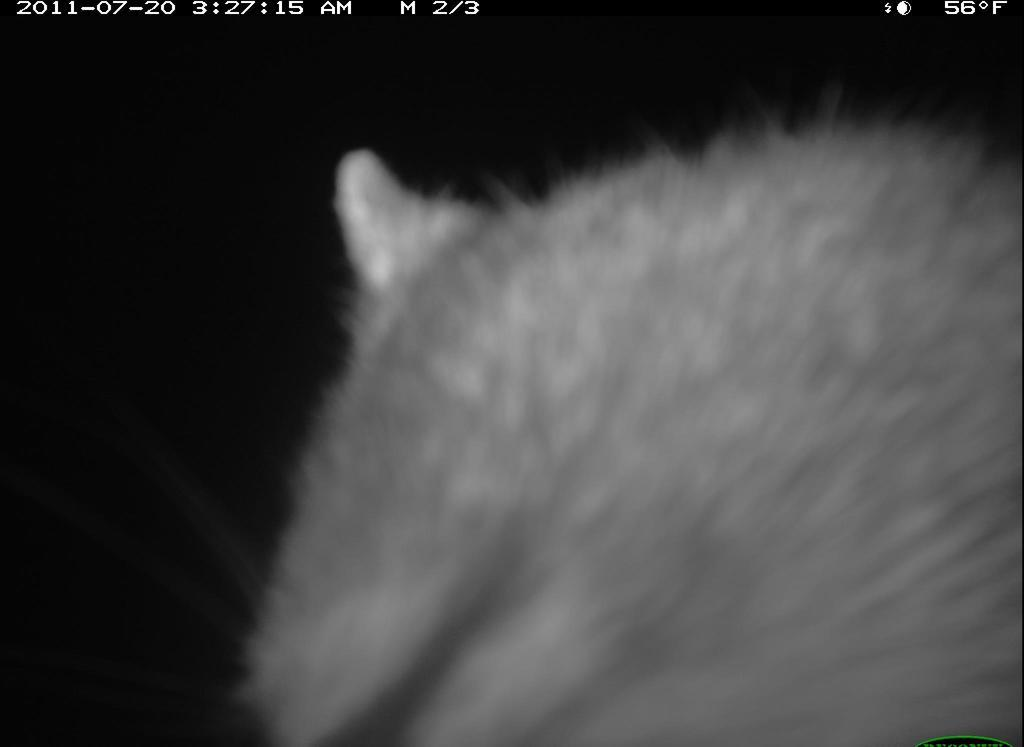raccoon: (176, 88, 1024, 747)
